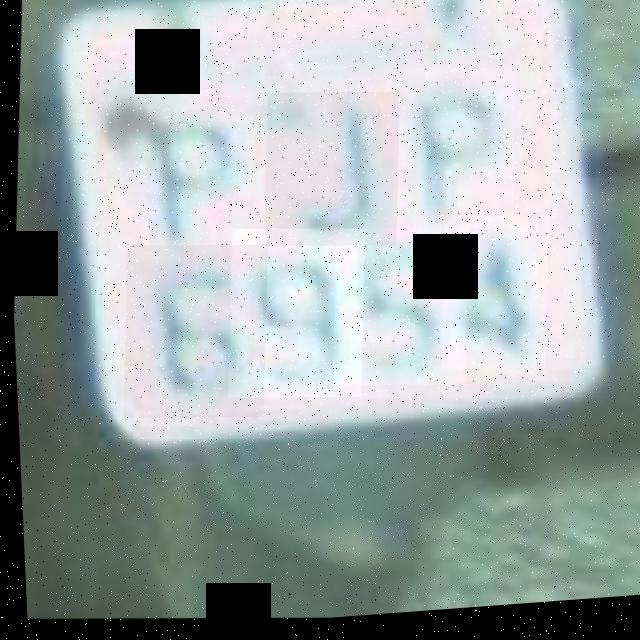4: (432, 216, 551, 382)
5: (322, 225, 471, 399)
6: (113, 239, 272, 429)
9: (218, 224, 368, 410)
J: (256, 89, 404, 259)
P: (119, 96, 256, 275), (384, 67, 521, 243)
